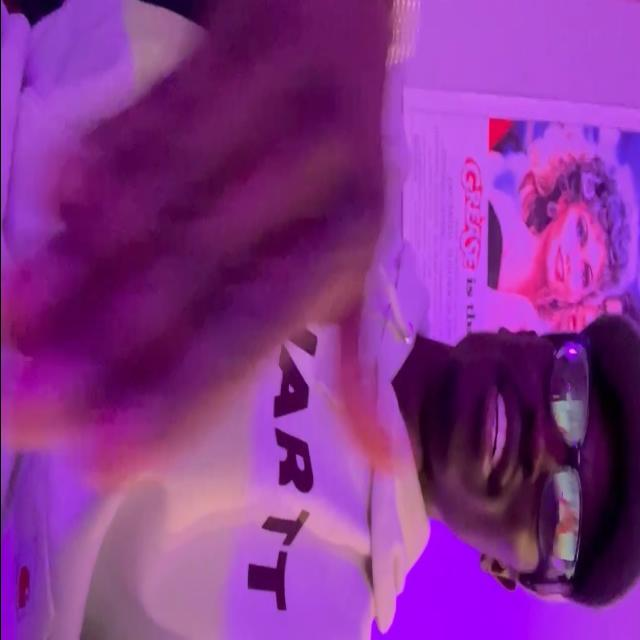Paper: (0, 1, 394, 500)
